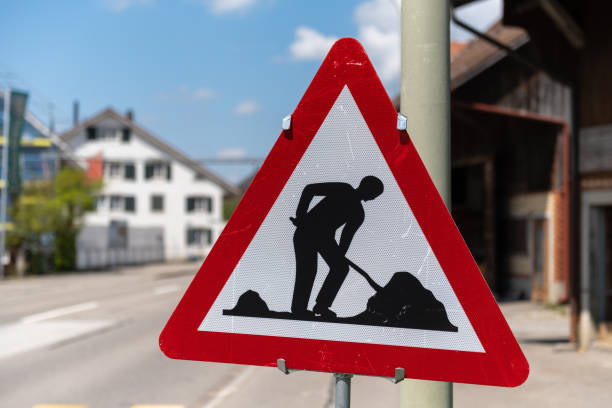yol_calismasi_levha: (153, 33, 528, 386)
